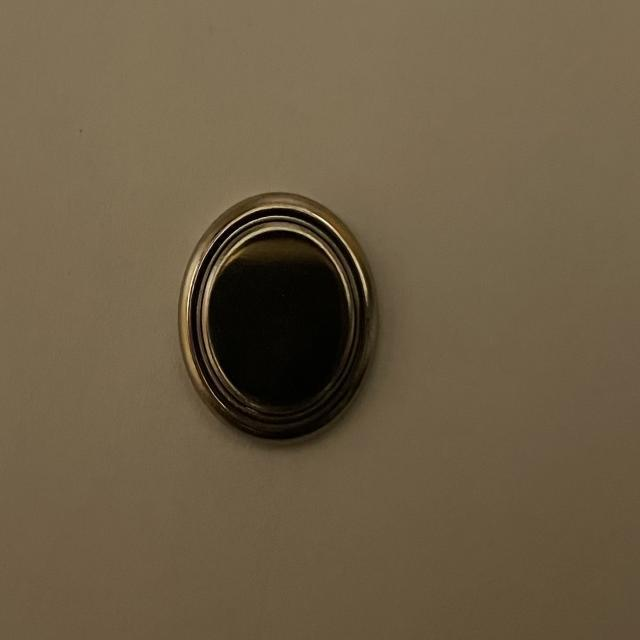COIN: (177, 189, 380, 451)
